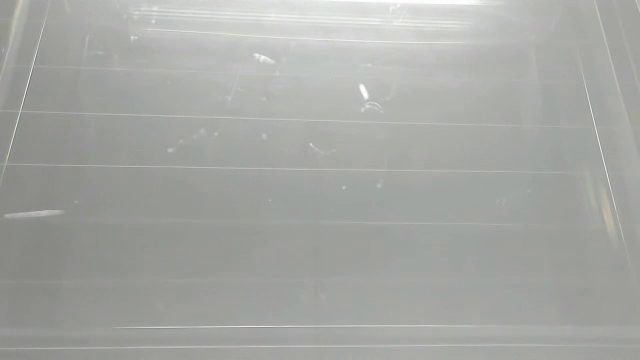alpha: (1, 205, 69, 224), (250, 50, 279, 67), (354, 80, 374, 104)
